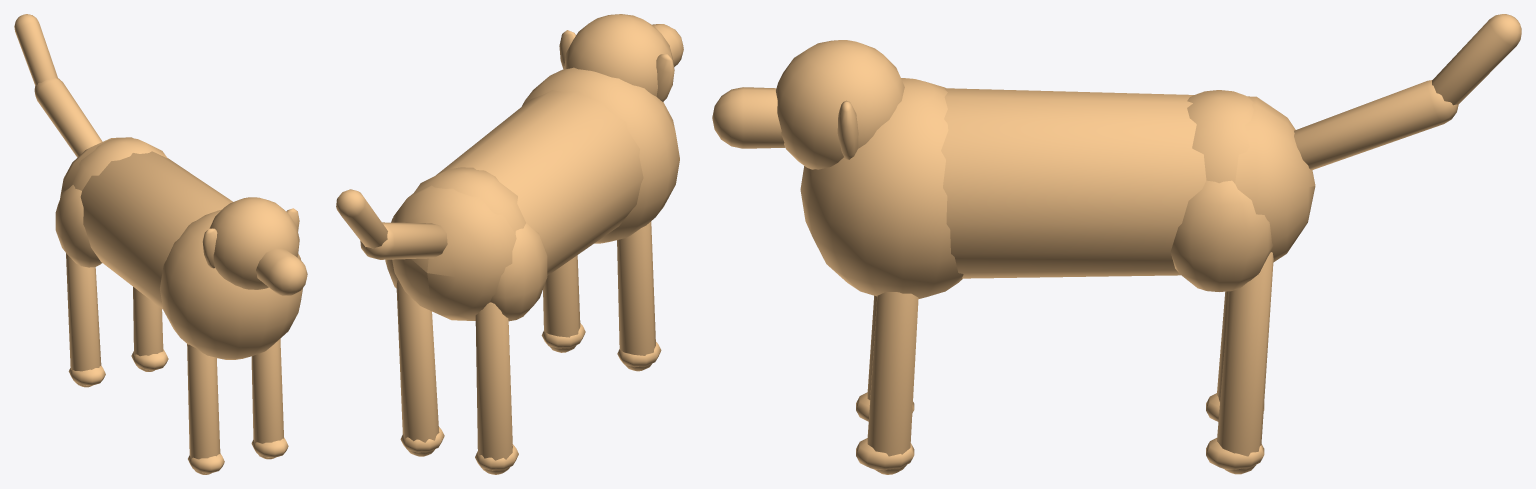
The model's file is dog-golden-retriever.glb.
3 views of the same model, side by side, from view 1: azimuth 30°, elevation 25°; view 2: azimuth 150°, elevation 25°; view 3: azimuth 270°, elevation 25° (orthographic). The views are drawn at different scales.
Visible parts, largest first — view 1: dog-retriever; view 2: dog-retriever; view 3: dog-retriever.
Boxes of the visible parts, bbox=[...] form: dog-retriever: bbox=[14, 14, 307, 474]; dog-retriever: bbox=[336, 14, 683, 474]; dog-retriever: bbox=[712, 14, 1521, 474].
Size of the model in its own units: 10276 by 22836 by 38574.
